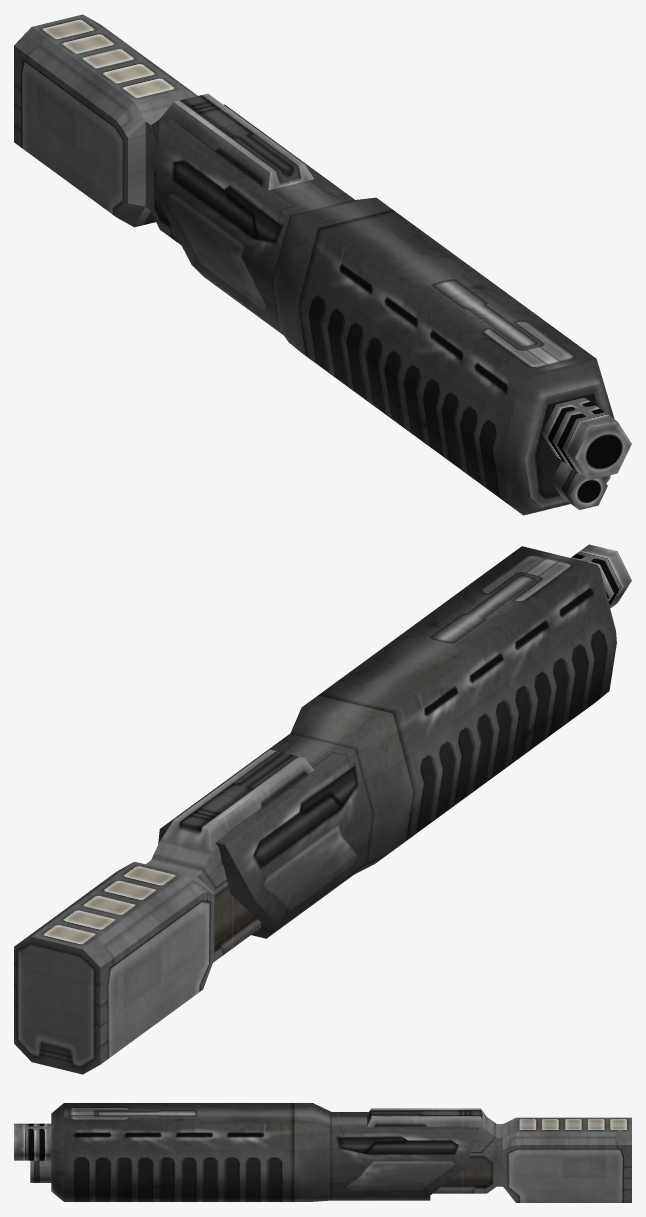
Rendered from weapon_shotgun_1.fbx.
3 renders of one model, top to bottom at view 1: azimuth 30°, elevation 25°; view 2: azimuth 150°, elevation 25°; view 3: azimuth 270°, elevation 25°, orthographic. The views are drawn at different scales.
Visible parts, largest first — view 1: shotgun1; view 2: shotgun1; view 3: shotgun1.
Boxes of the visible parts, <box> form: shotgun1: <box>14,14,631,515</box>; shotgun1: <box>14,544,631,1074</box>; shotgun1: <box>14,1103,631,1202</box>.
Bounding box in the file's own units: 0.4499 × 0.5448 × 3.69.
1 material, 1 textured.
